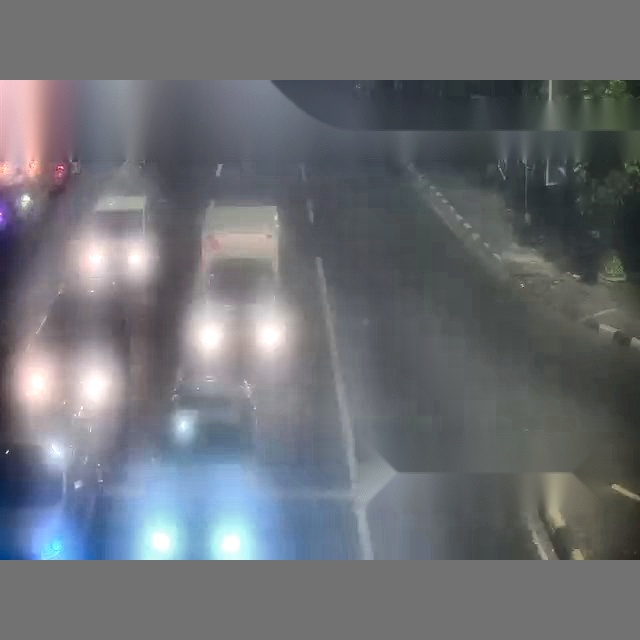Truk: (0, 80, 78, 248)
